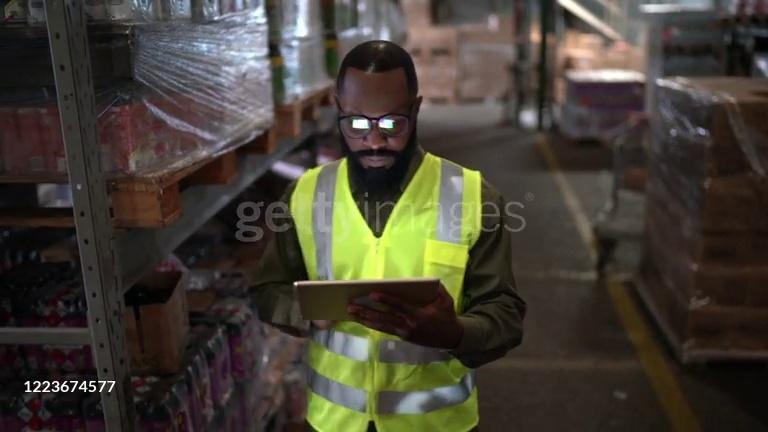person: (249, 40, 528, 432)
